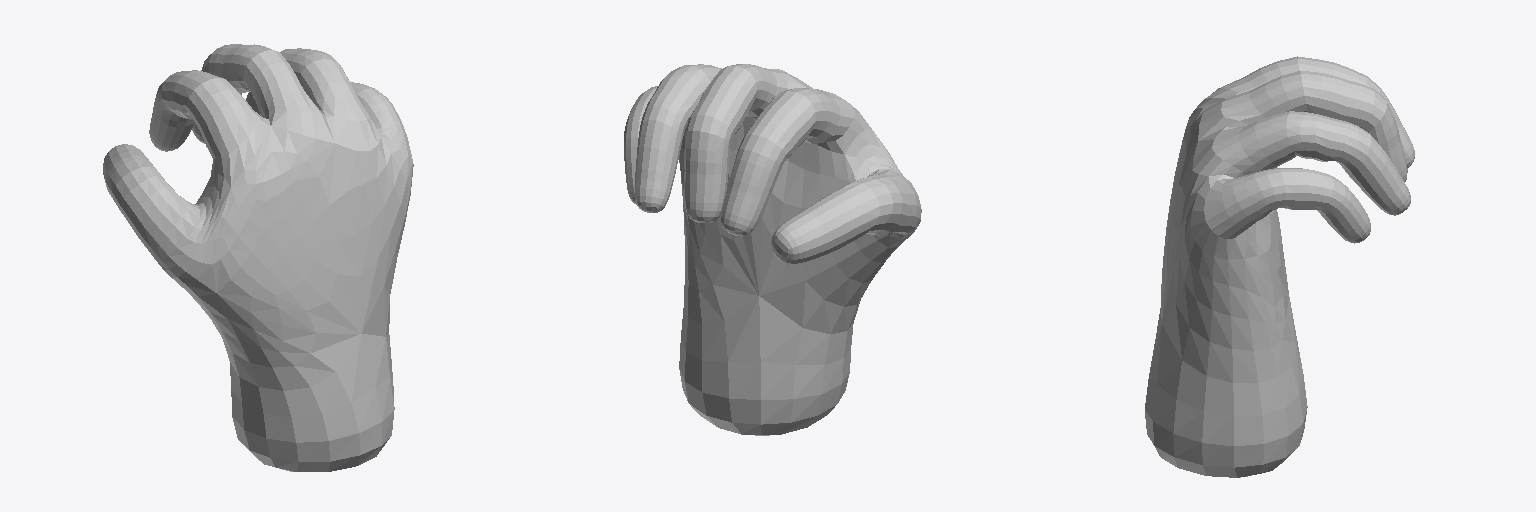
File: hand16.obj
3 renders of one model, left to right at view 1: azimuth 30°, elevation 25°; view 2: azimuth 150°, elevation 25°; view 3: azimuth 270°, elevation 25°, orthographic.
Parts seen in each view (by area): view 1: Cube; view 2: Cube; view 3: Cube.
Boxes of the visible parts, x1=… form: Cube: x1=103, y1=44, x2=413, y2=471; Cube: x1=624, y1=64, x2=921, y2=435; Cube: x1=1145, y1=56, x2=1414, y2=477.
Size of the model in its own units: 3.25 by 4.61 by 2.93.